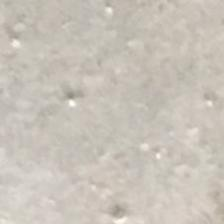Non_Crack: (28, 29, 224, 204)
